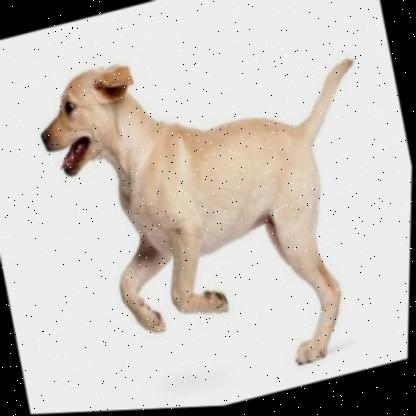dog: (2, 0, 416, 416)
